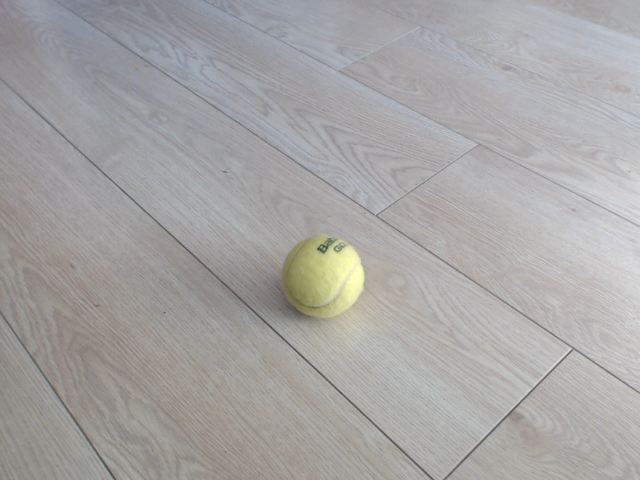ball: (281, 232, 367, 321)
